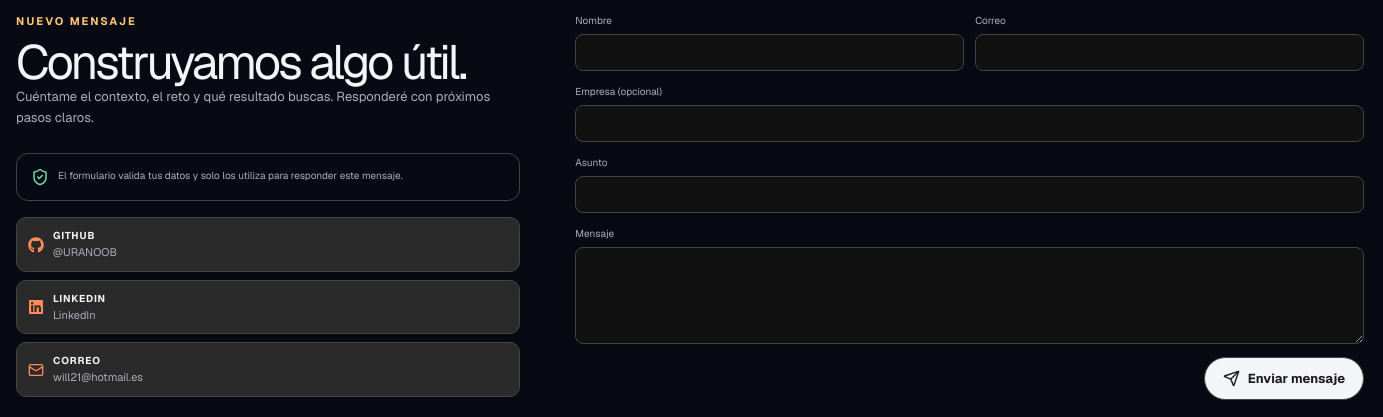
ContactApp without Turnstile › submits a localized Spanish form without external scripts or tokens
Expected: the heading "Construyamos algo útil." is shown, [16,38,520,86]
Type "Ada Lovelace" into the field labelled "Nombre".
click(770, 52); type("Ada Lovelace")  # box [575,34,964,71]
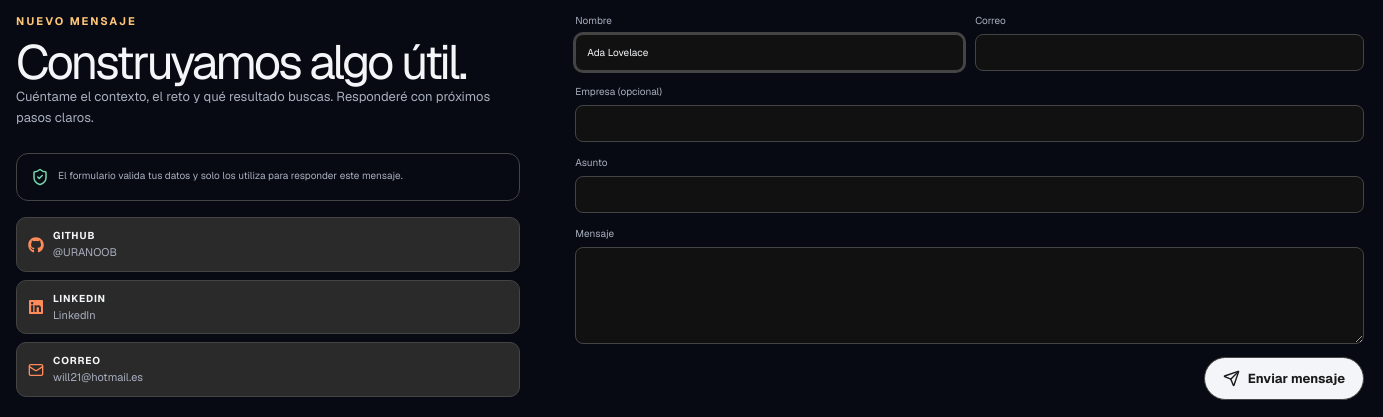
Type "ada@example.com" into the field labelled "Correo".
click(1170, 52); type("ada@example.com")  # box [975,34,1364,71]
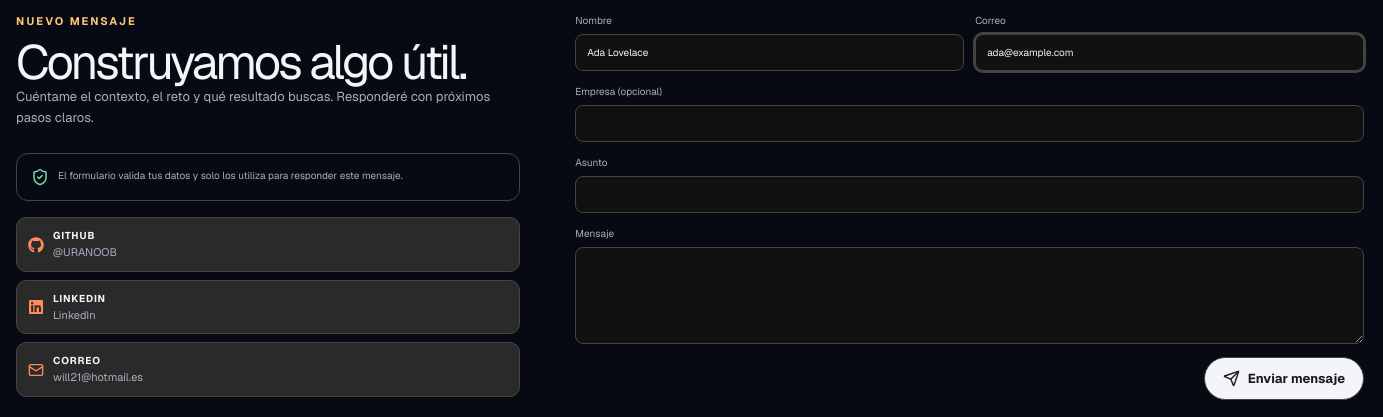
Type "Proyecto web" into the field labelled "Asunto".
click(970, 194); type("Proyecto web")  # box [575,176,1364,213]
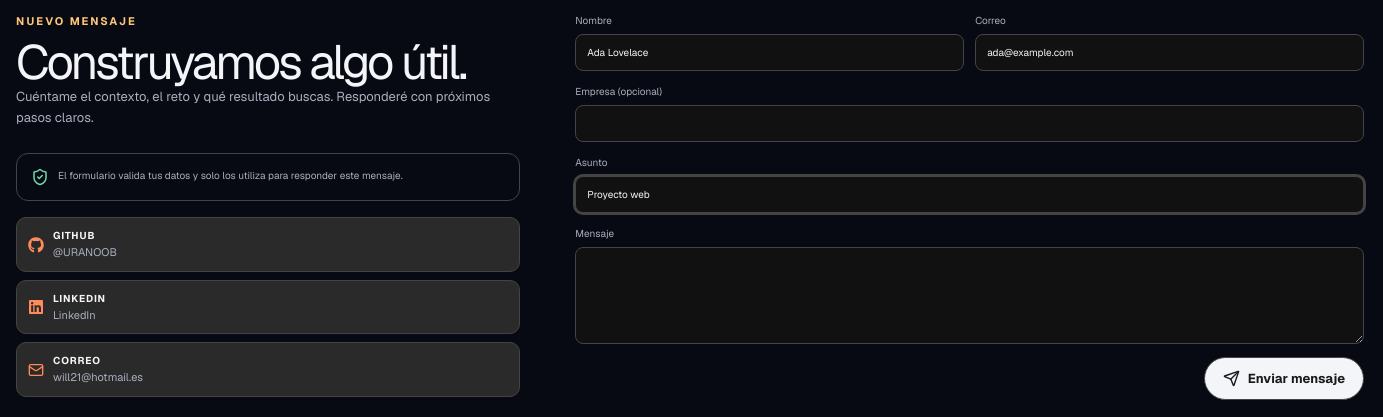
Type "Quisiera conversar sobre una plataforma para nuestro equipo." into the text box labelled "Mensaje".
click(970, 296); type("Quisiera conversar sobre una plataforma para nuestro equipo.")  # box [575,247,1364,344]
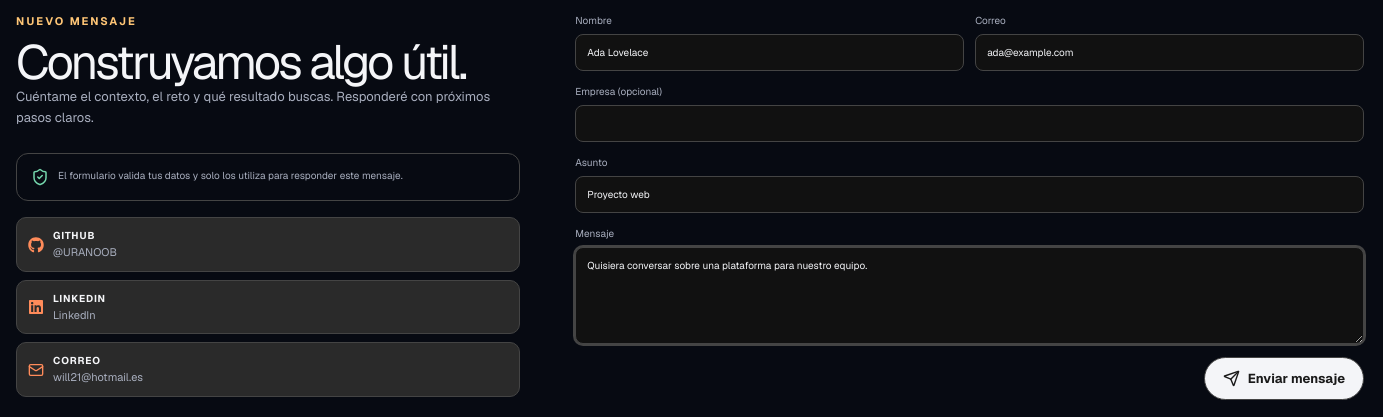
Click the button "Enviar mensaje".
click(1284, 378)  # box [1204,357,1364,400]
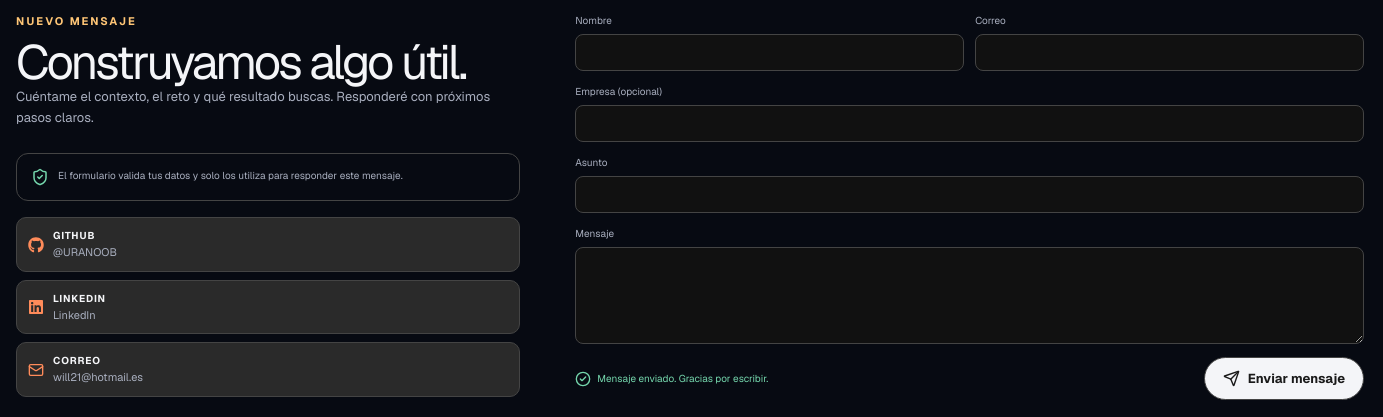
Expected: the text "Mensaje enviado. Gracias por escribir." is shown, [575,370,768,386]
Expected: the field labelled "Nombre" is empty, [575,34,964,71]
Expected: the text box labelled "Mensaje" is empty, [575,247,1364,344]
